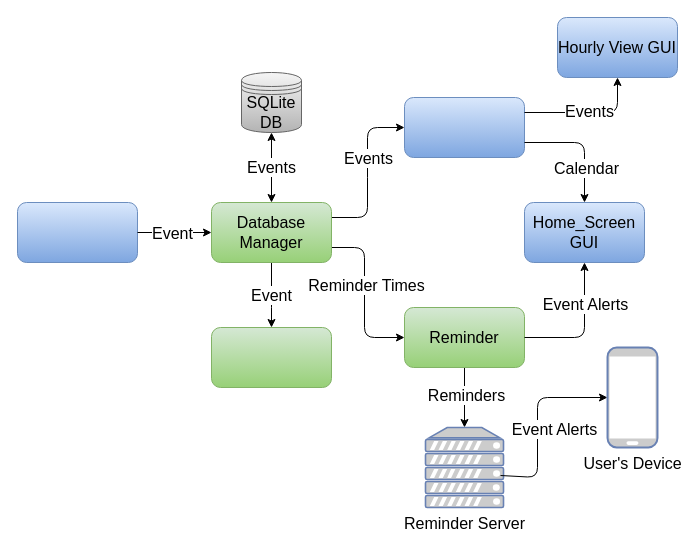
The diagram is 699 pixels wide and 551 high, and some of its shapes have lost their labels. Here are the shapes that lost their labels. From the top down, the box of each, then its label:
(404, 96, 524, 158): Calendar GUI
(16, 202, 138, 262): Add/Edit/Delete Event GUI
(210, 326, 332, 388): Export .ics
